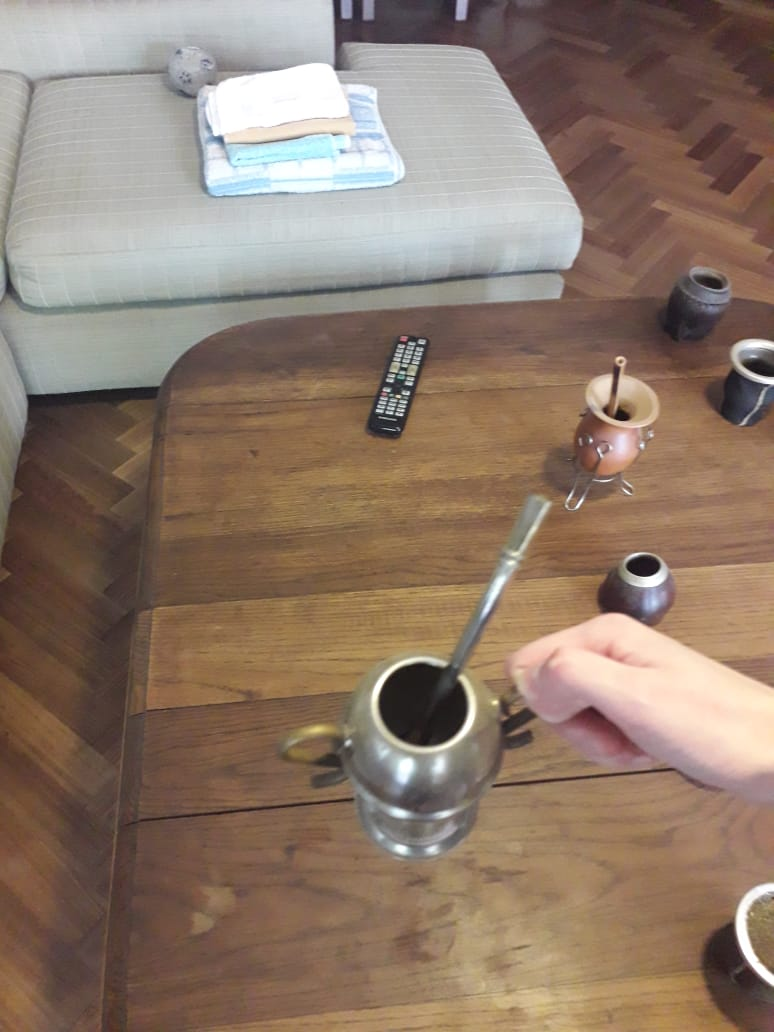mate: (277, 490, 567, 861)
metal: (275, 488, 565, 859)
